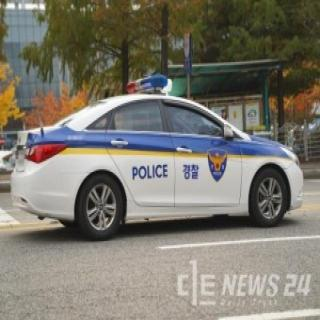Police_car: (11, 73, 305, 239)
